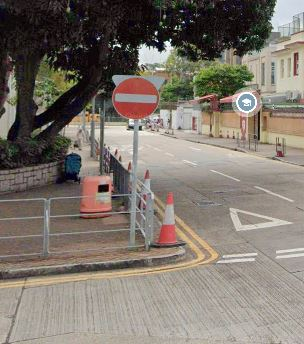No Enter: (110, 77, 159, 118)
